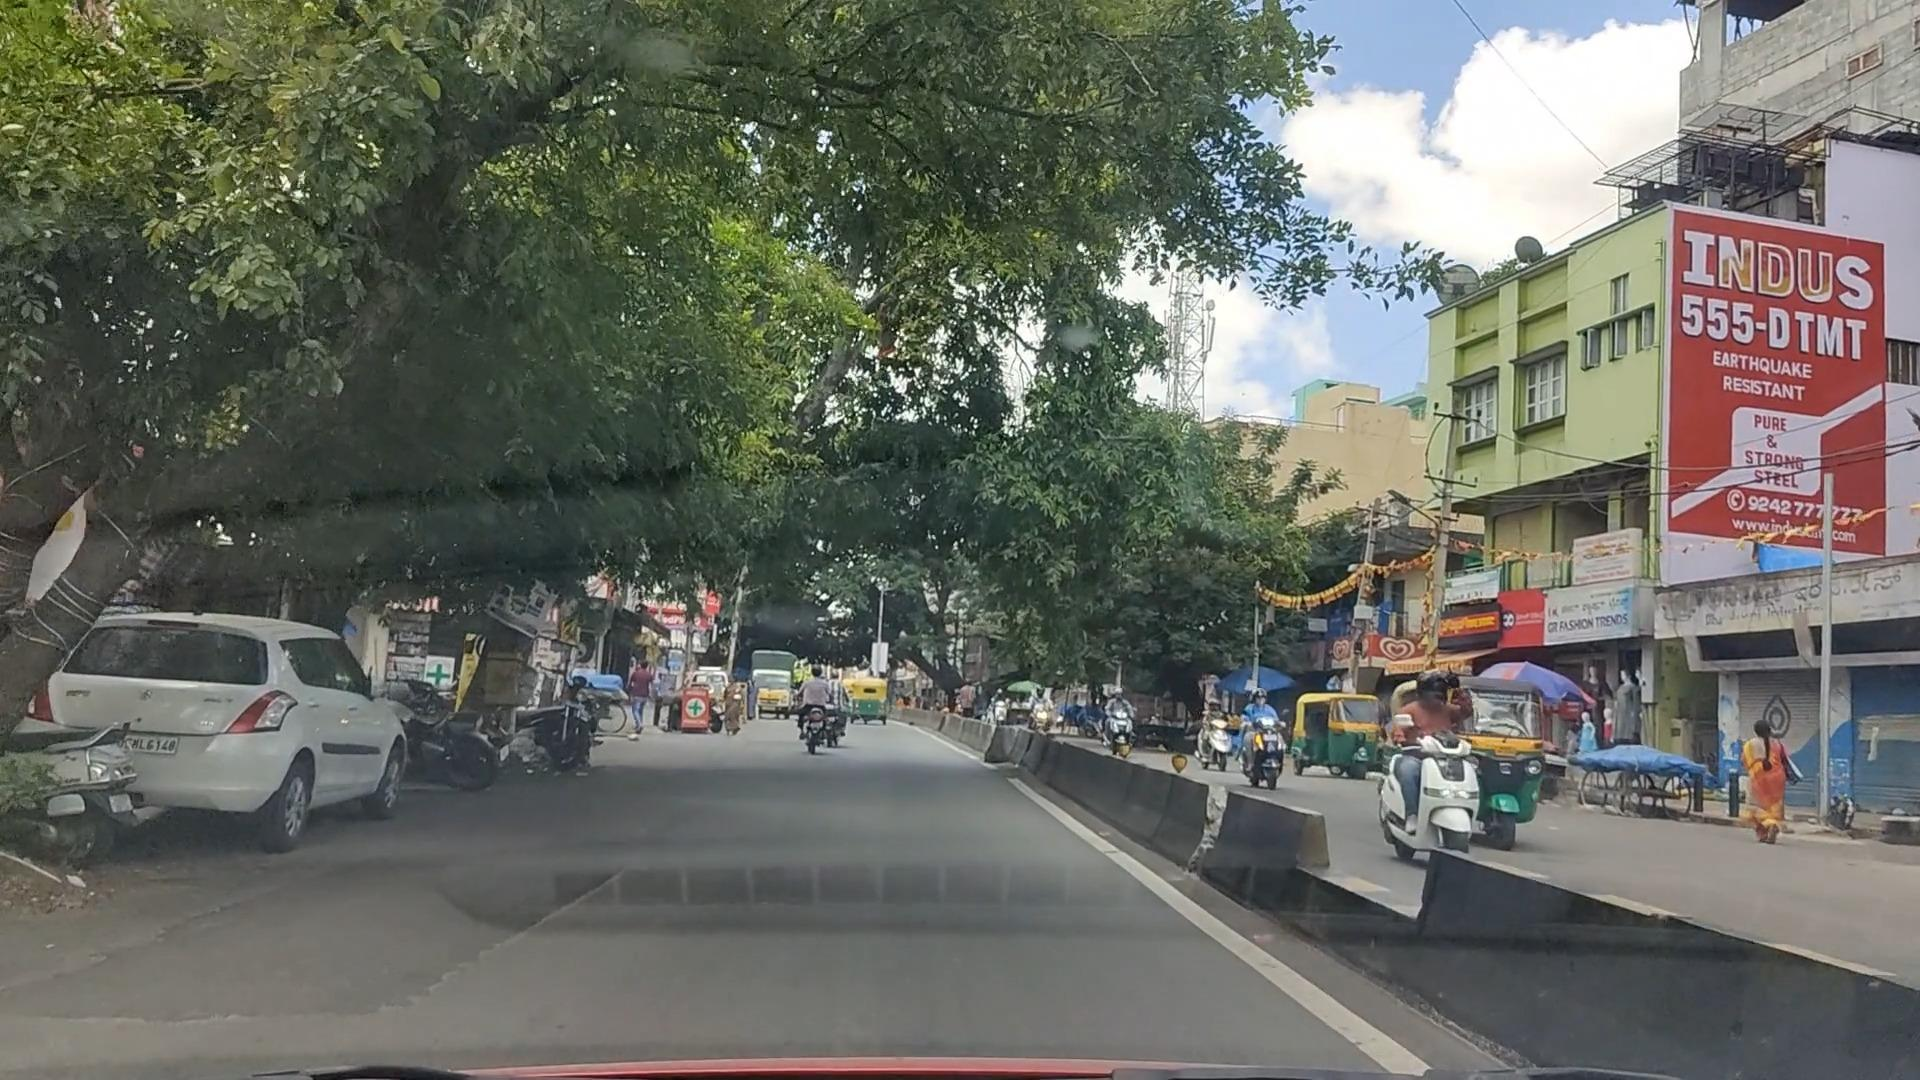LMV: (63, 605, 401, 864)
RoadDamages: (138, 837, 640, 1036)
